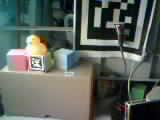duck: (18, 29, 48, 59)
